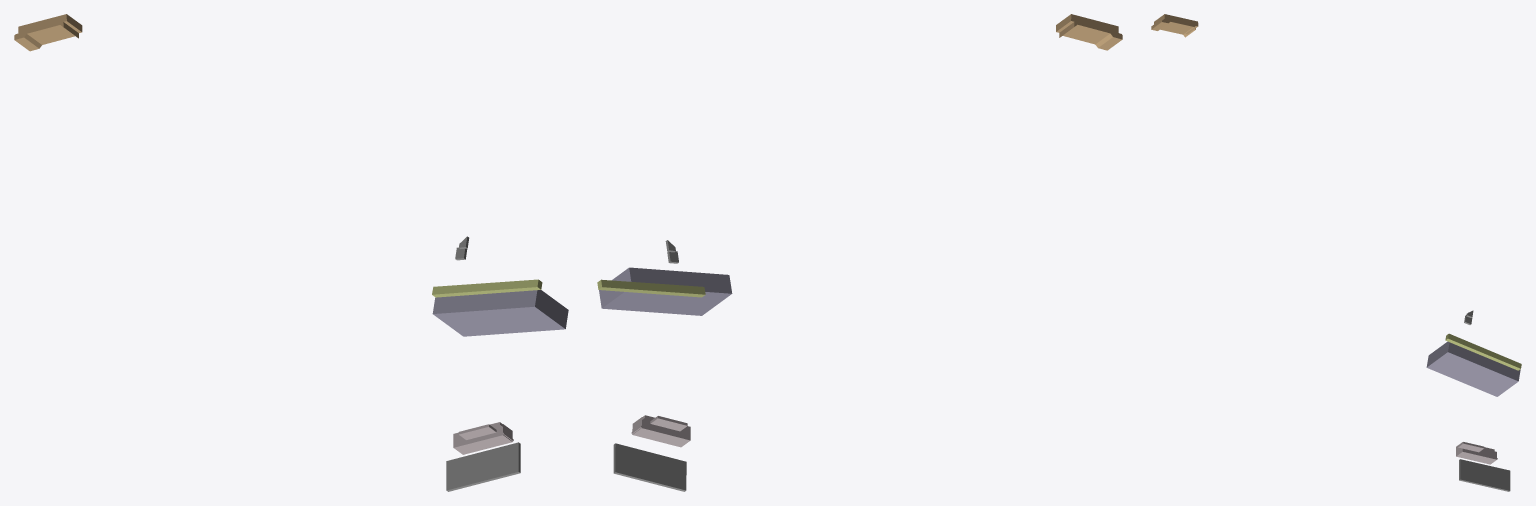
3 renders of one model, left to right at view 1: azimuth 30°, elevation 25°; view 2: azimuth 150°, elevation 25°; view 3: azimuth 330°, elevation 25°, orthographic. The views are drawn at different scales.
Parts seen in each view (by area): view 1: 0_3_2_3_1; view 2: 0_3_2_3_1; view 3: 0_3_2_3_1.
Boxes of the visible parts, x1,y1,x2,y2 form: 0_3_2_3_1: [14, 14, 568, 491]; 0_3_2_3_1: [597, 14, 1122, 491]; 0_3_2_3_1: [1151, 14, 1521, 491].
Size of the model in its own units: 469 by 488 by 51.9.
